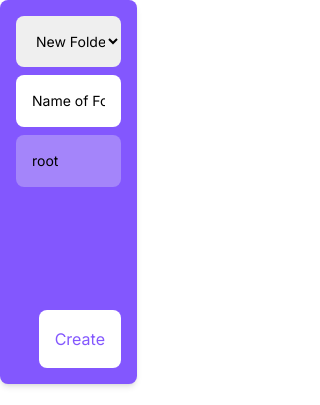
FormUpload › should show 'Choose file' label when Upload File is selected
This screenshot has width=320, height=405.
Select "Upload File" in the dropdown at (68, 42), box x1=16 y1=16 x2=121 y2=67
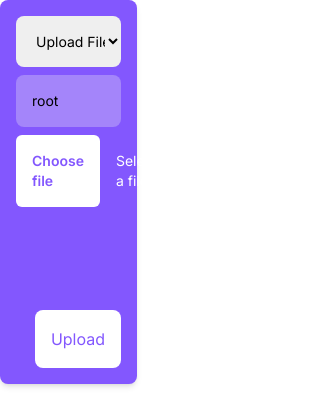
Result: the file field "Choose file" is shown at x1=16 y1=135 x2=100 y2=207
